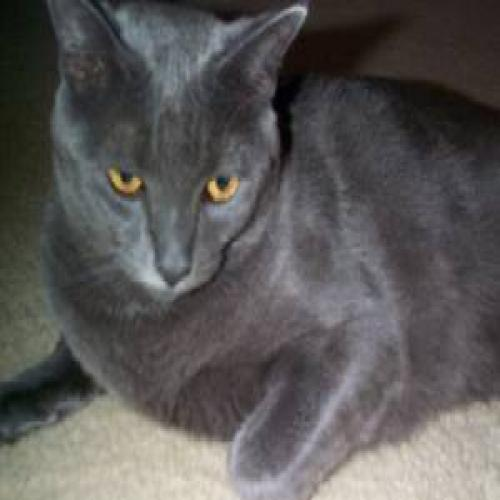rblue: (30, 1, 320, 315)
